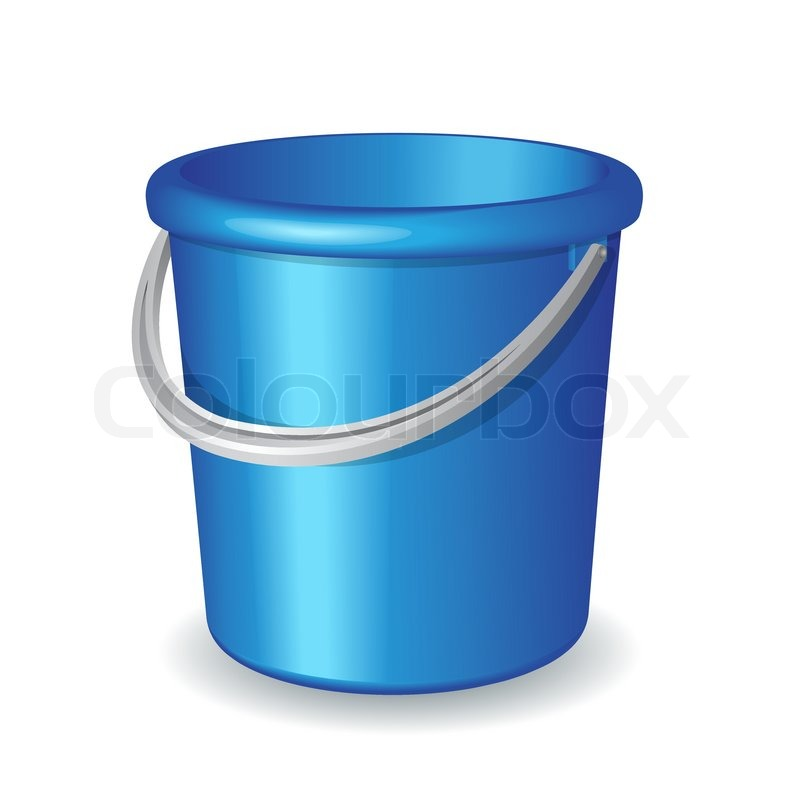Rec_Plastic: (123, 56, 634, 708)
